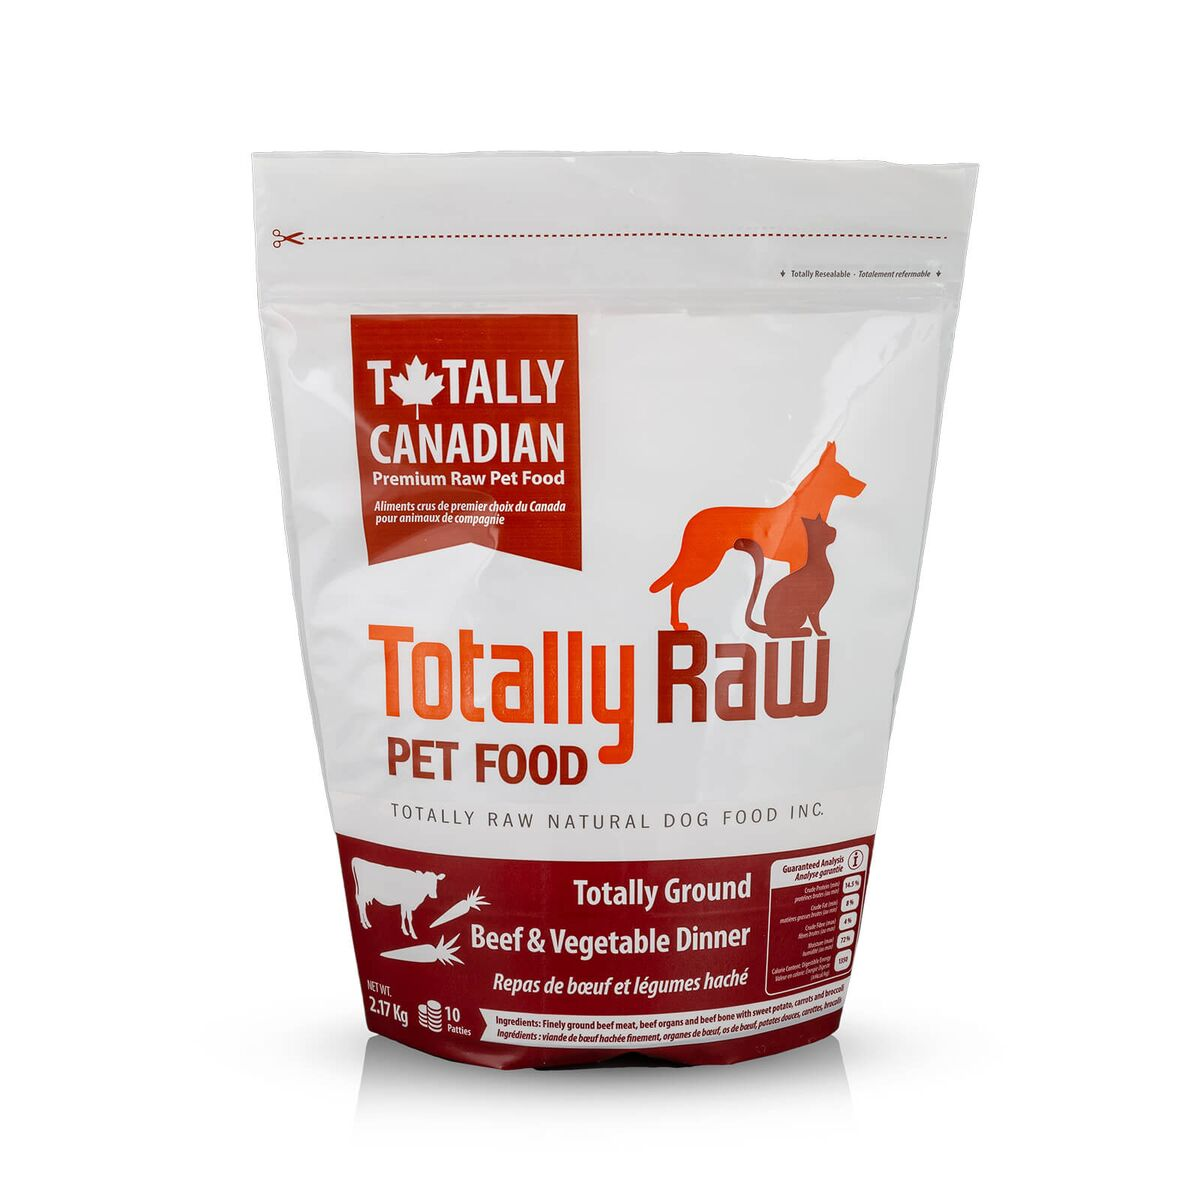ground_beef: (236, 145, 951, 1084)
